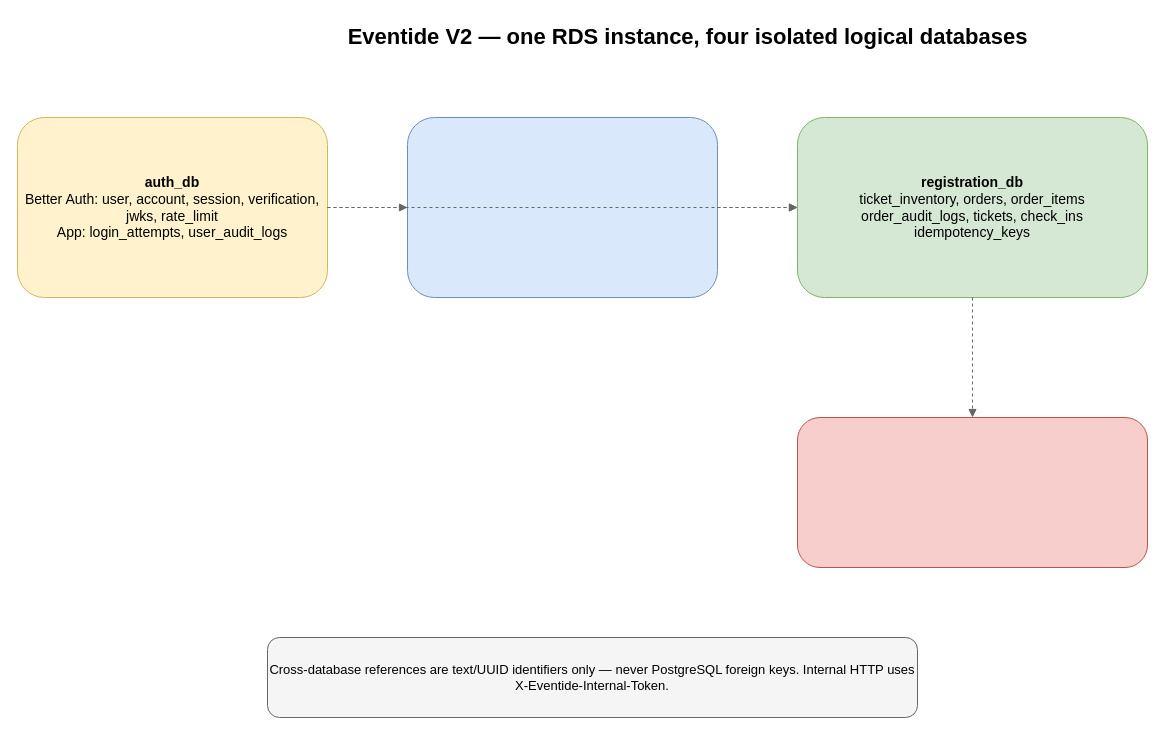
This 1165x735 diagram has some shape labels left out. The shapes that lost their labels are listed below. From the top down, each one's centre as x and y in pixels, then its label:
point (562, 207): event_db categories, venues, events ticket_types, event_images event_change_logs
point (972, 492): payment_db payments, payment_attempts, refunds Mock gateway; no card data
